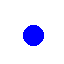circle: (23, 25, 43, 45)
